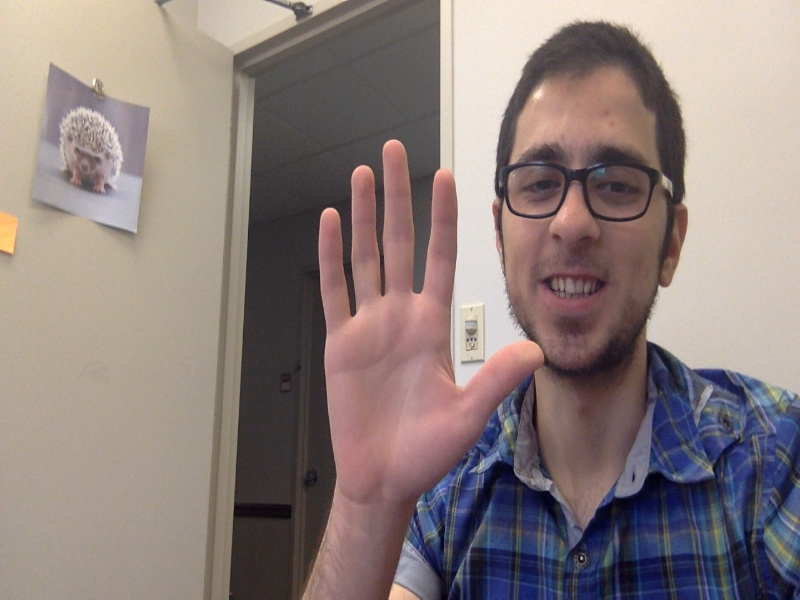5-hand: (313, 138, 544, 515)
